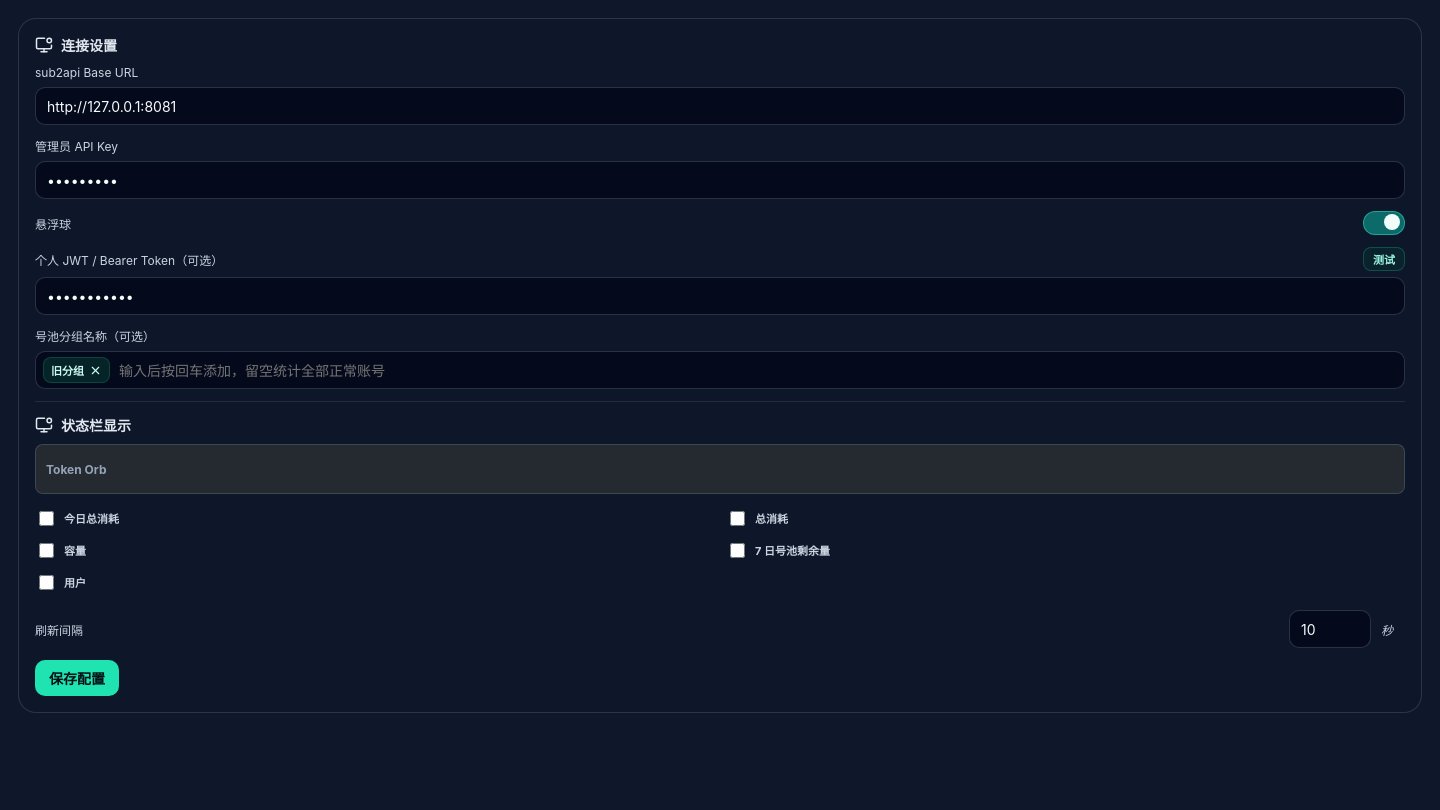
Scenario: App settings sync › shows the actual personal JWT test error message
The width and height of the screenshot is (1440, 810).
Click the button with class "secondary-mini-button": coordinates (1384, 259) [1363,247,1405,271]
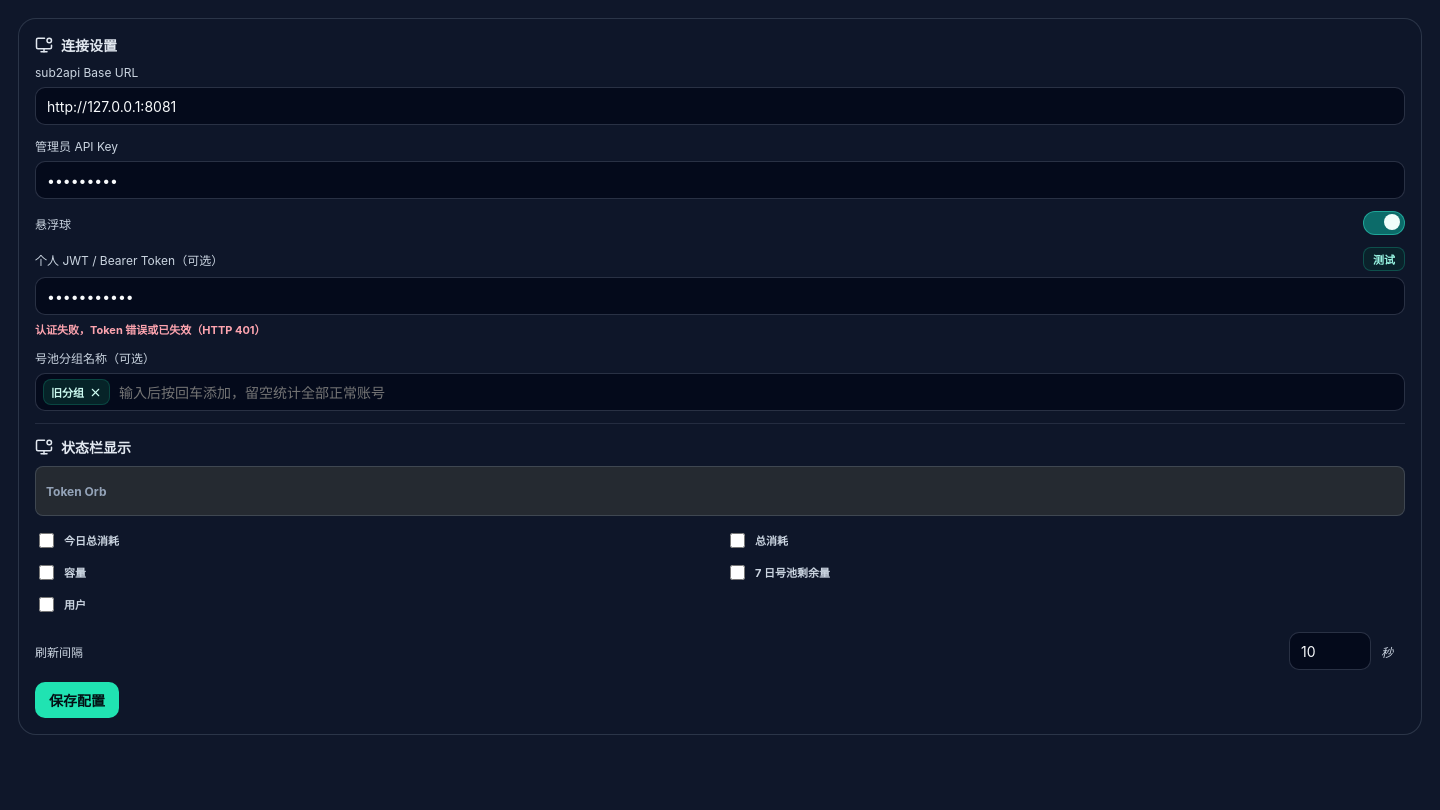
expect the text "认证失败，Token 错误或已失效（HTTP 401）" is shown: met, box [35,323,266,337]
